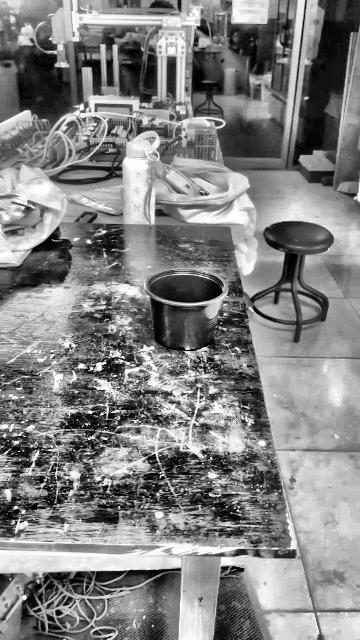pot: (145, 269, 225, 349)
